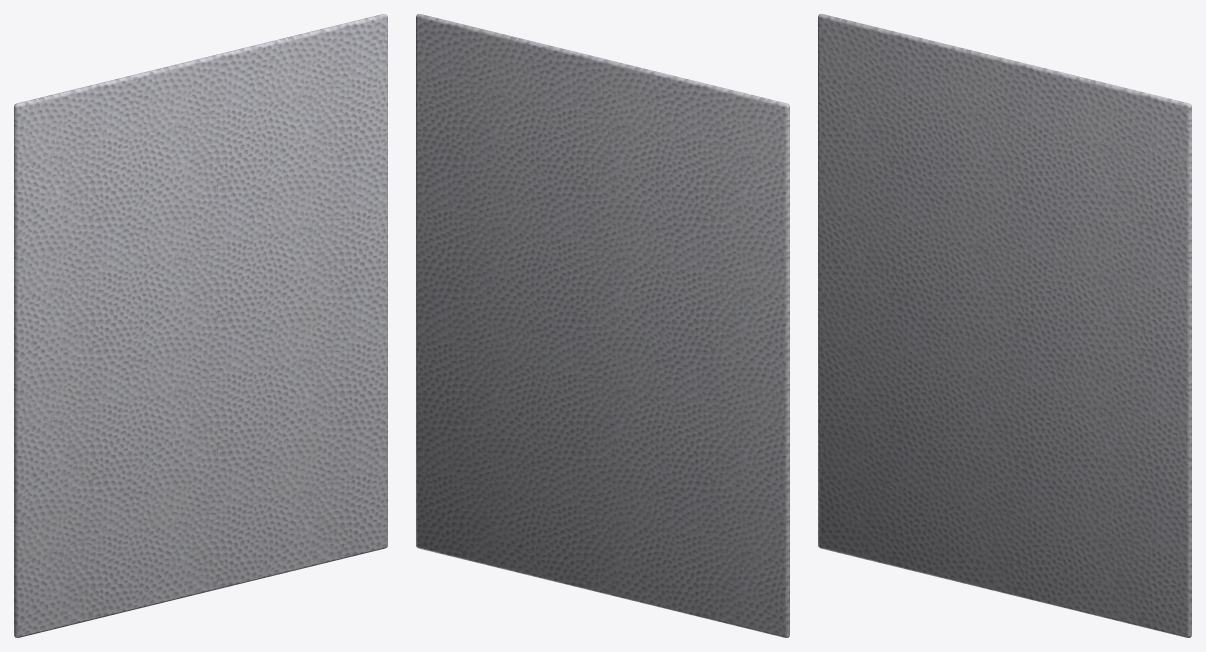
The model's file is ProtectionWall.FBX.
3 views of the same model, side by side, from view 1: azimuth 30°, elevation 25°; view 2: azimuth 150°, elevation 25°; view 3: azimuth 330°, elevation 25° (orthographic).
Visible parts, largest first — view 1: ProtectionWall; view 2: ProtectionWall; view 3: ProtectionWall.
Boxes of the visible parts, box(x1,y1,x2,y2) form: ProtectionWall: box(14, 14, 387, 637); ProtectionWall: box(416, 14, 789, 637); ProtectionWall: box(818, 14, 1191, 637).
Bounding box in the file's own units: 151 × 206 × 2.31.
Materials: 1 (1 with a texture image).
